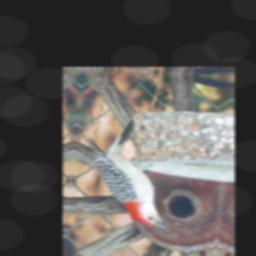Woodpecker: (67, 113, 185, 232)
